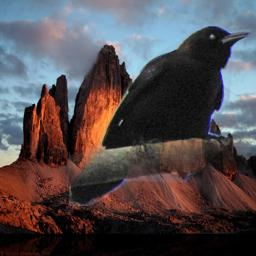Crow: (69, 26, 251, 206)
